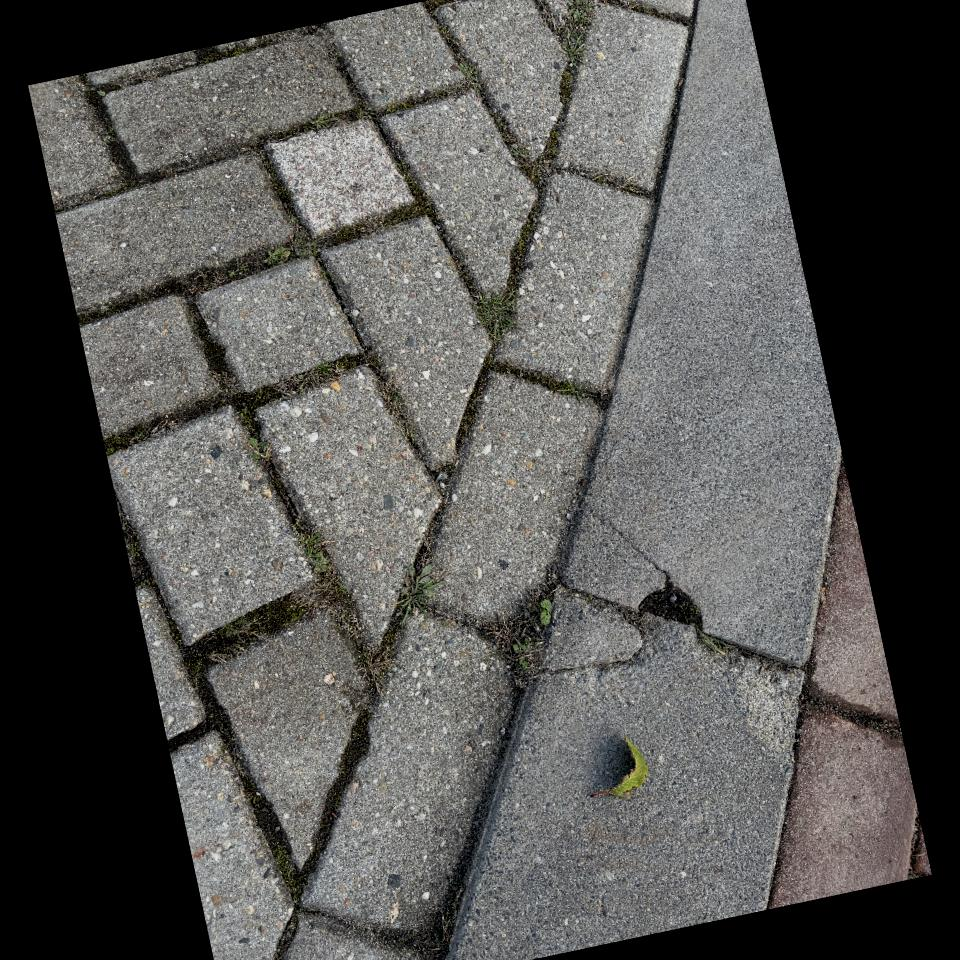weed: (396, 564, 440, 626), (474, 292, 515, 342), (558, 29, 585, 65), (553, 382, 597, 402), (458, 62, 480, 92), (296, 532, 321, 557), (264, 247, 291, 265), (311, 112, 336, 130), (311, 552, 331, 574), (251, 436, 269, 459), (537, 599, 552, 626), (105, 129, 115, 136)
